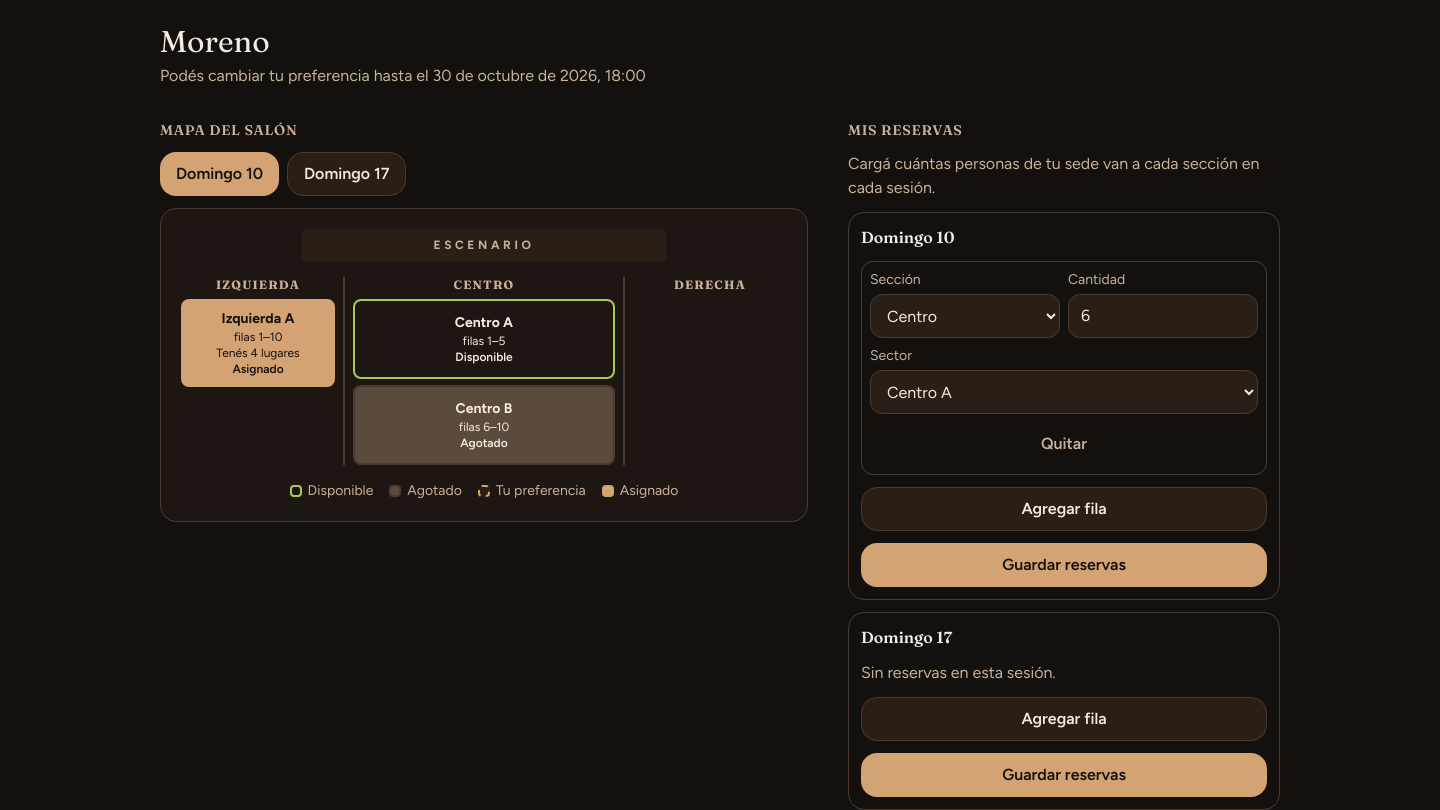
SedePanel › cambiar de sesión actualiza agotado y asignado
Expected: the button "Centro B filas 6–10 Agotado" is shown, [353,385,615,465]
Expected: the button "Izquierda A filas 1–10 Tenés 4 lugares Asignado" is shown, [181,299,335,387]
Step 1. Click the button "Domingo 17" → (347, 174), box [287,152,406,196]
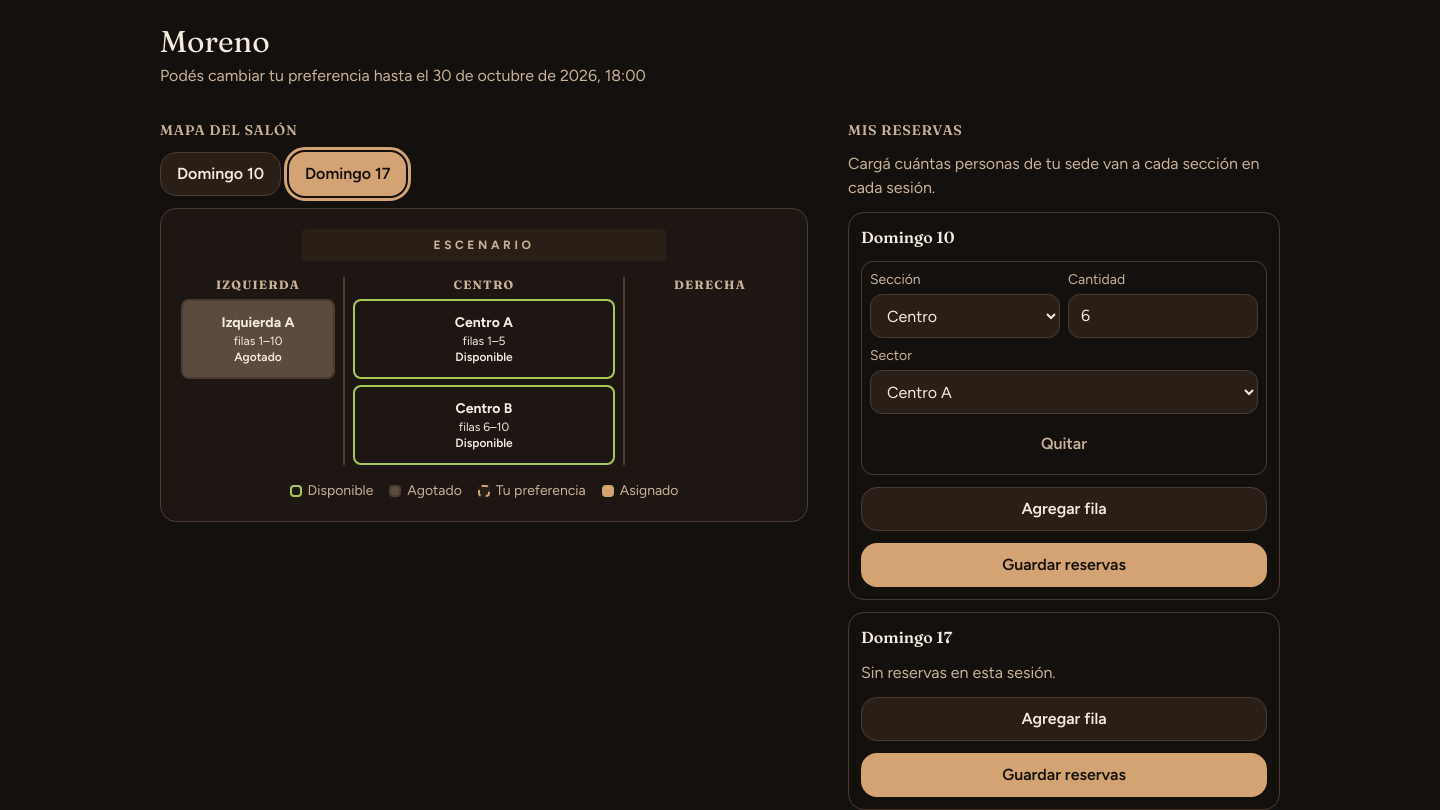
Now the button "Centro B filas 6–10 Disponible" is shown, box [353,385,615,465]
Now the button "Izquierda A filas 1–10 Agotado" is shown, box [181,299,335,379]
